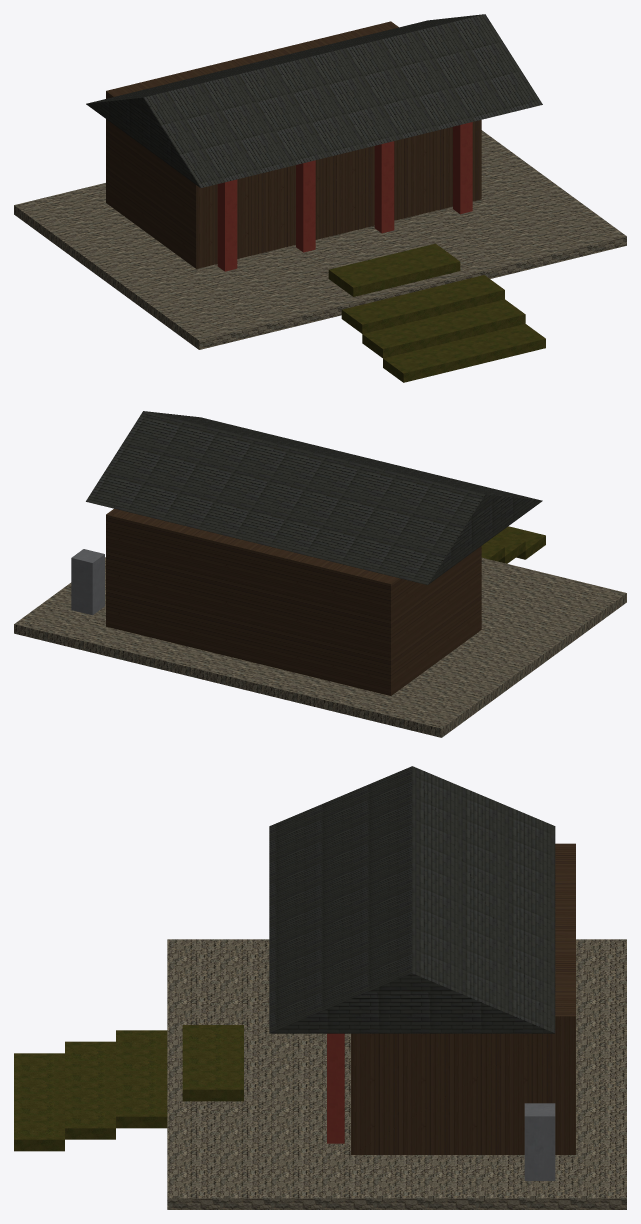
Rendered from sunken_palace_01.glb.
3 views of the same model, one above another, from view 1: azimuth 30°, elevation 25°; view 2: azimuth 150°, elevation 25°; view 3: azimuth 270°, elevation 25° (orthographic). The views are drawn at different scales.
Visible parts, largest first — view 1: sunken_palace_01; view 2: sunken_palace_01; view 3: sunken_palace_01.
Boxes of the visible parts, x1=… form: sunken_palace_01: x1=14, y1=14, x2=626, y2=382; sunken_palace_01: x1=14, y1=411, x2=626, y2=737; sunken_palace_01: x1=14, y1=766, x2=626, y2=1209.
Size of the model in its own units: 12 by 5.15 by 12.
Materials: 6 (6 with a texture image).
